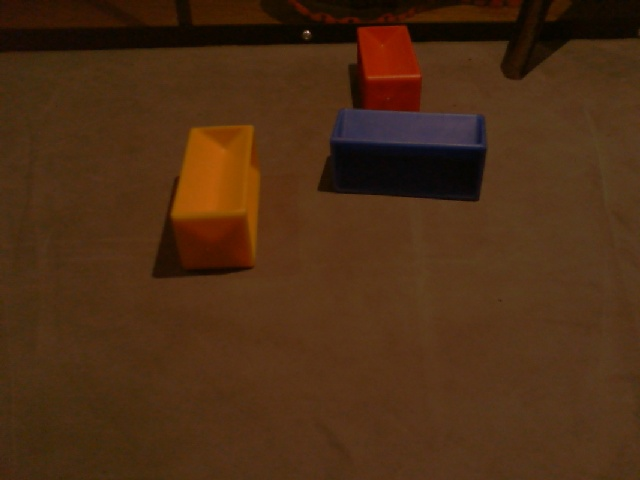BlueSample: (328, 106, 489, 204)
RedSample: (350, 23, 424, 115)
YellowSample: (167, 124, 265, 271)
